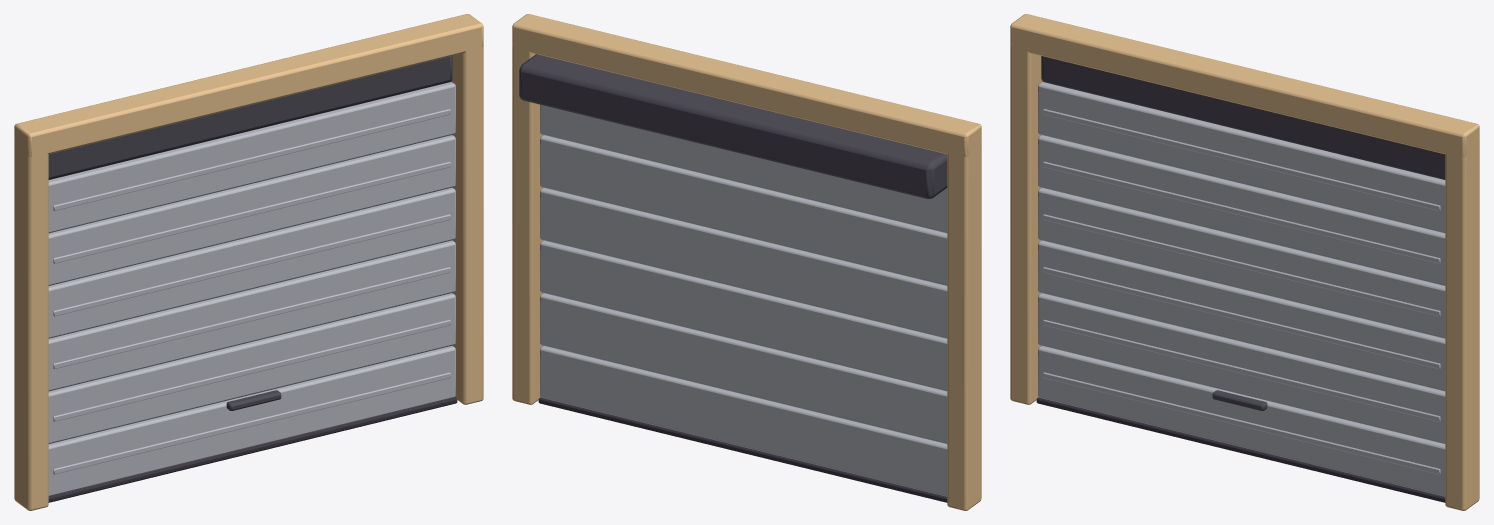
Rendered from garage_door.glb.
The picture shows the model from 3 angles, left to right: view 1: azimuth 30°, elevation 25°; view 2: azimuth 150°, elevation 25°; view 3: azimuth 330°, elevation 25°; orthographic projection.
Visible parts, largest first — view 1: garage_door; view 2: garage_door; view 3: garage_door.
Part boxes in pixels (left/top/right/bottom): garage_door: left=14, top=14, right=483, bottom=510; garage_door: left=512, top=14, right=981, bottom=510; garage_door: left=1010, top=14, right=1479, bottom=510.
Size of the model in its own units: 2.64 by 2.09 by 0.31.
